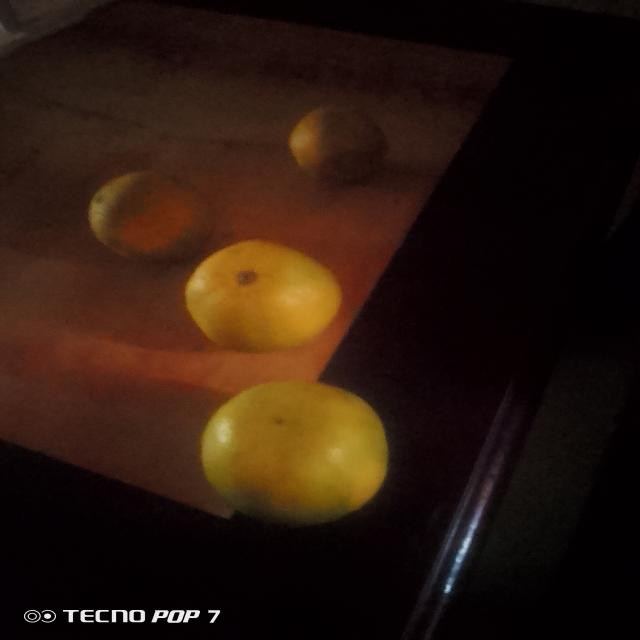Ripe orange: (188, 382, 387, 522), (183, 233, 348, 357), (89, 164, 191, 264), (288, 106, 379, 186)
